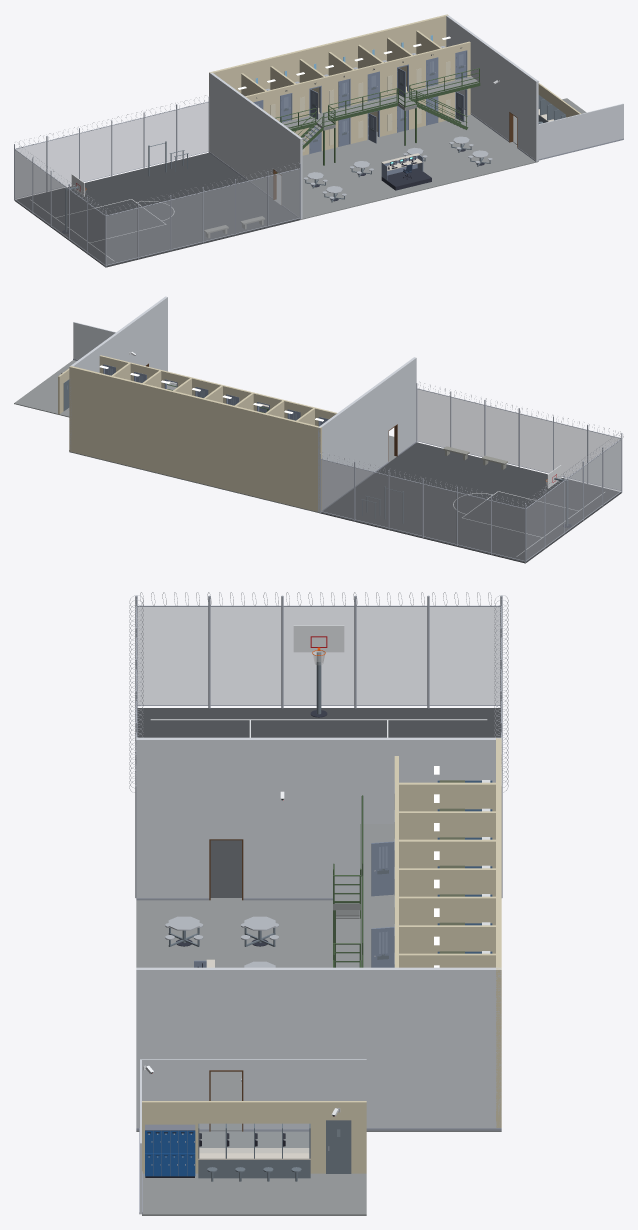
The model's file is prs-001.glb.
The picture shows the model from 3 angles, top to bottom: view 1: azimuth 30°, elevation 25°; view 2: azimuth 150°, elevation 25°; view 3: azimuth 270°, elevation 25°; orthographic projection. The views are drawn at different scales.
Visible parts, largest first — view 1: chain_link, yard_asphalt, wall, block_wall, prison_floor, cell_door, rail_green, steel, prison_steel, access_panel, stainless, dark_steel (+2 smaller); view 2: block_wall, chain_link, yard_asphalt, wall, steel, prison_floor, razor_wire, cell_door, prison_steel; view 3: wall, chain_link, prison_floor, block_wall, yard_asphalt, prison_steel, steel, glass_clear, razor_wire, cell_door, locker_blue, white (+4 smaller).
Part boxes in pixels (x1,y1,x2,y2): chain_link: [15, 102, 299, 264]; yard_asphalt: [14, 153, 299, 267]; wall: [209, 14, 623, 218]; block_wall: [209, 14, 580, 155]; prison_floor: [274, 76, 586, 219]; cell_door: [253, 50, 467, 180]; rail_green: [275, 68, 480, 173]; steel: [14, 54, 413, 266]; prison_steel: [65, 57, 565, 232]; access_panel: [270, 61, 450, 151]; stainless: [265, 46, 492, 198]; dark_steel: [62, 149, 484, 233]; block_wall: [58, 355, 337, 512]; chain_link: [321, 389, 621, 560]; yard_asphalt: [320, 442, 621, 563]; wall: [69, 296, 416, 512]; steel: [320, 383, 622, 562]; prison_floor: [14, 360, 396, 513]; razor_wire: [322, 381, 623, 507]; cell_door: [103, 364, 328, 426]; prison_steel: [63, 379, 568, 525]; wall: [136, 737, 501, 1214]; chain_link: [137, 607, 500, 704]; prison_floor: [136, 824, 501, 1215]; block_wall: [142, 738, 501, 1173]; yard_asphalt: [137, 708, 500, 897]; prison_steel: [168, 652, 388, 1181]; steel: [135, 595, 502, 1165]; glass_clear: [200, 847, 386, 1152]; razor_wire: [129, 592, 508, 792]; cell_door: [194, 782, 399, 967]; locker_blue: [145, 1130, 195, 1176]; white: [143, 625, 490, 1157].
Bounding box in the file's own units: 42.93 × 6.36 × 13.5.
